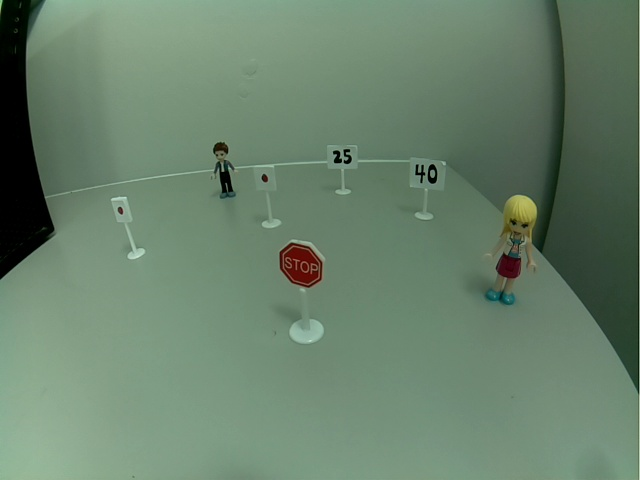people: (480, 192, 541, 309), (209, 139, 241, 201)
red light: (110, 195, 135, 224), (254, 164, 278, 193)
speed 25: (326, 142, 359, 171)
speed 40: (408, 154, 446, 192)
stop: (276, 237, 327, 290)
